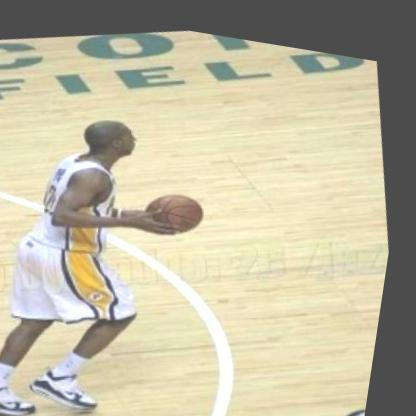basketball: (139, 172, 219, 240)
